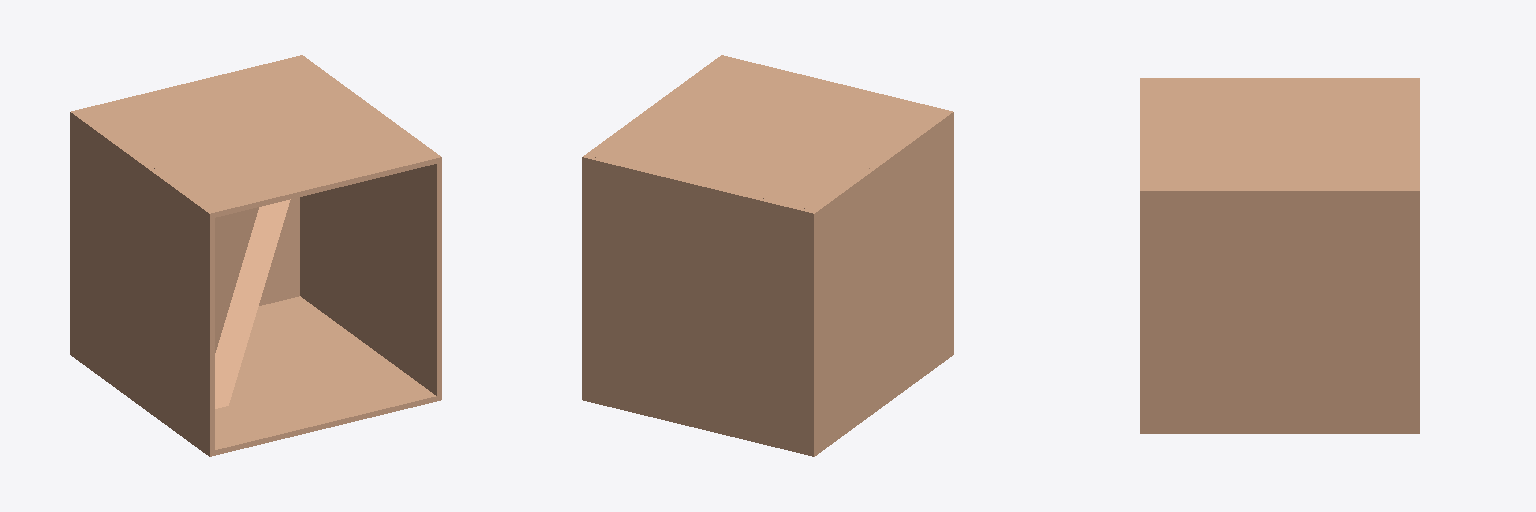
The model's file is cornellBox3wall.obj.
3 views of the same model, side by side, from view 1: azimuth 30°, elevation 25°; view 2: azimuth 150°, elevation 25°; view 3: azimuth 270°, elevation 25° (orthographic).
Visible parts, largest first — view 1: Box003; view 2: Box003; view 3: Box003.
Part boxes in pixels (x1,y1,x2,y2): Box003: (70, 55, 441, 456); Box003: (582, 55, 953, 456); Box003: (1140, 78, 1419, 433).
Size of the model in its own units: 4.52 by 4.52 by 4.7.